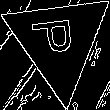P_E: (33, 20, 85, 63)
